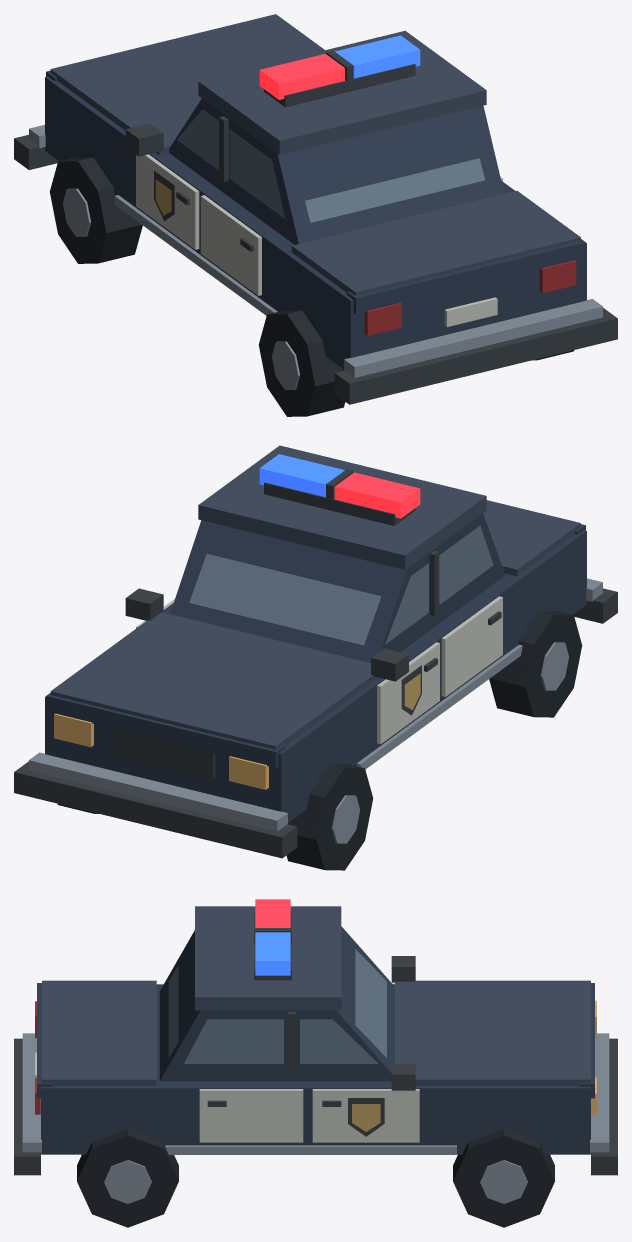
The model's file is gotham_police_cruiser.glb.
The picture shows the model from 3 angles, top to bottom: view 1: azimuth 30°, elevation 25°; view 2: azimuth 150°, elevation 25°; view 3: azimuth 270°, elevation 25°; orthographic projection. The views are drawn at different scales.
Parts seen in each view (by area): view 1: Main sedan chassis, Angular sedan cabin, Square trunk lid, Long hood lid, Thin roof cap, Rear bumper lower, Left front tire, Left rear tire, Rear bumper upper, Trunk rear step, Rear windshield, Left rear off-white door (+15 smaller); view 2: Long hood lid, Main sedan chassis, Angular sedan cabin, Thin roof cap, Front windshield, Front bumper lower, Left rear tire, Left front tire, Front bumper upper, Front hood step, Square trunk lid, Left rear off-white door (+16 smaller); view 3: Main sedan chassis, Long hood lid, Thin roof cap, Square trunk lid, Angular sedan cabin, Right front tire, Right rear tire, Right rear off-white door, Right front off-white door, Right rear side window, Right lower sill, Right front side window (+17 smaller).
Boxes of the visible parts, box(x1,y1,x2,y2) form: Main sedan chassis: box(45, 76, 586, 369); Angular sedan cabin: box(169, 98, 504, 244); Square trunk lid: box(291, 191, 580, 295); Long hood lid: box(50, 14, 324, 155); Thin roof cap: box(198, 30, 486, 154); Rear bumper lower: box(334, 308, 617, 404); Left front tire: box(50, 157, 142, 263); Left rear tire: box(258, 310, 345, 416); Rear bumper upper: box(344, 299, 602, 377); Trunk rear step: box(347, 239, 585, 314); Rear windshield: box(305, 158, 484, 222); Left rear off-white door: box(200, 195, 261, 295); Long hood lid: box(50, 612, 378, 749); Main sedan chassis: box(45, 530, 586, 822); Angular sedan cabin: box(170, 513, 505, 662); Thin roof cap: box(198, 445, 486, 569); Front windshield: box(189, 554, 381, 645); Front bumper lower: box(14, 761, 297, 858); Left rear tire: box(489, 611, 582, 717); Left front tire: box(286, 764, 373, 870); Front bumper upper: box(29, 752, 287, 831); Front hood step: box(46, 693, 284, 767); Square trunk lid: box(483, 500, 580, 576); Left rear off-white door: box(441, 596, 502, 696); Main sedan chassis: box(41, 984, 590, 1154); Long hood lid: box(395, 980, 590, 1085); Thin roof cap: box(195, 906, 341, 1010); Square trunk lid: box(42, 980, 156, 1085); Angular sedan cabin: box(159, 926, 394, 1081); Right front tire: box(453, 1128, 554, 1227); Right rear tire: box(77, 1128, 178, 1227); Right rear off-white door: box(199, 1089, 303, 1142); Right front off-white door: box(312, 1089, 419, 1142); Right rear side window: box(184, 1019, 283, 1063); Right lower sill: box(165, 1145, 456, 1154); Right front side window: box(300, 1019, 378, 1063).
Size of the model in its own units: 1.77 by 1.66 by 3.79.
